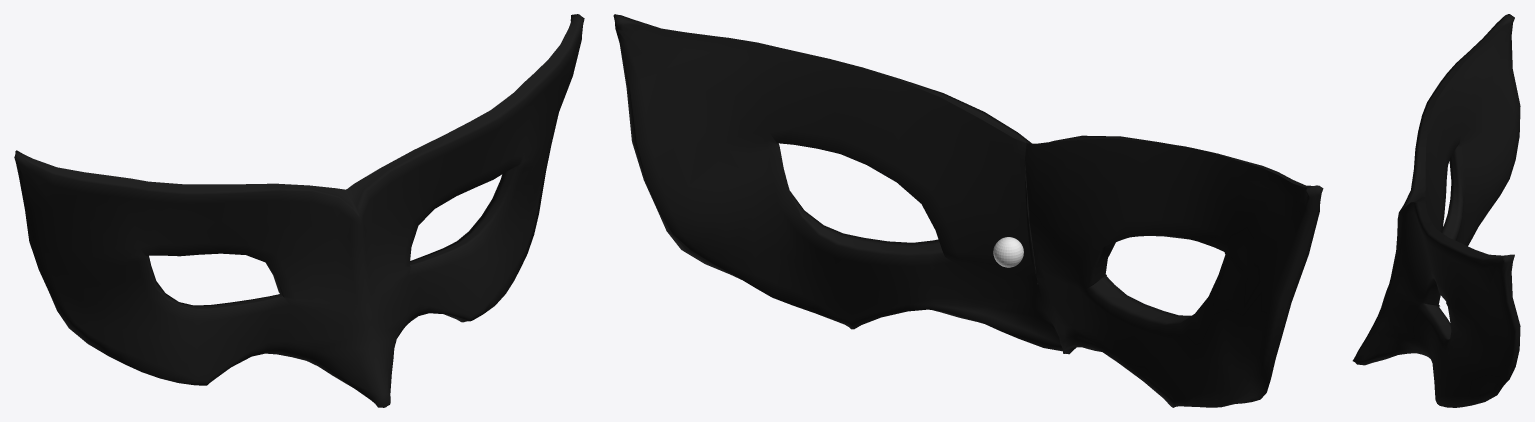
File: Prosona.fbx
The picture shows the model from 3 angles, left to right: view 1: azimuth 30°, elevation 25°; view 2: azimuth 150°, elevation 25°; view 3: azimuth 270°, elevation 25°; orthographic projection. The views are drawn at different scales.
Parts seen in each view (by area): view 1: Prosona; view 2: Prosona, Center; view 3: Prosona.
Boxes of the visible parts, <box> form: Prosona: <box>14,14,584,407</box>; Prosona: <box>613,14,1323,407</box>; Center: <box>993,237,1023,267</box>; Prosona: <box>1352,14,1520,407</box>.
Bounding box in the file's own units: 10.7 × 4.74 × 3.12.
Materials: 1 (1 with a texture image).
